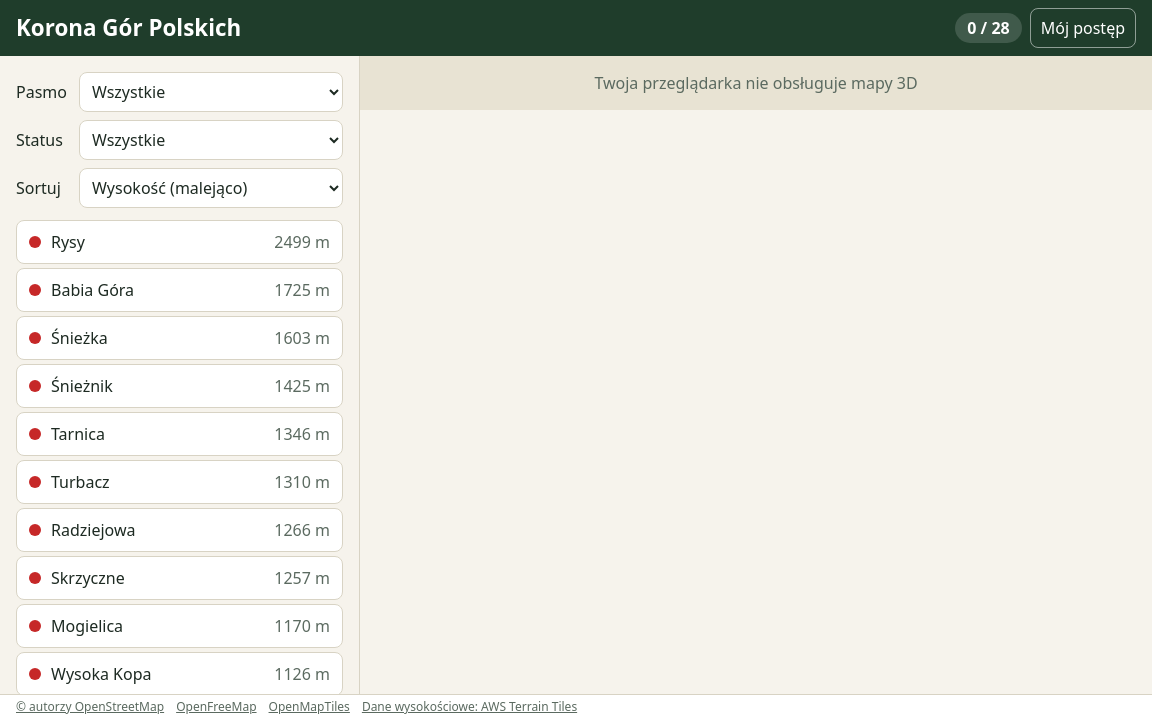
App › selecting a peak from the list opens its card with routes
What coordinates should you click on to do the following:
click the button "Babia Góra 1725 m"
I would click on:
 (93, 290)
Its box is [16,268,343,312].
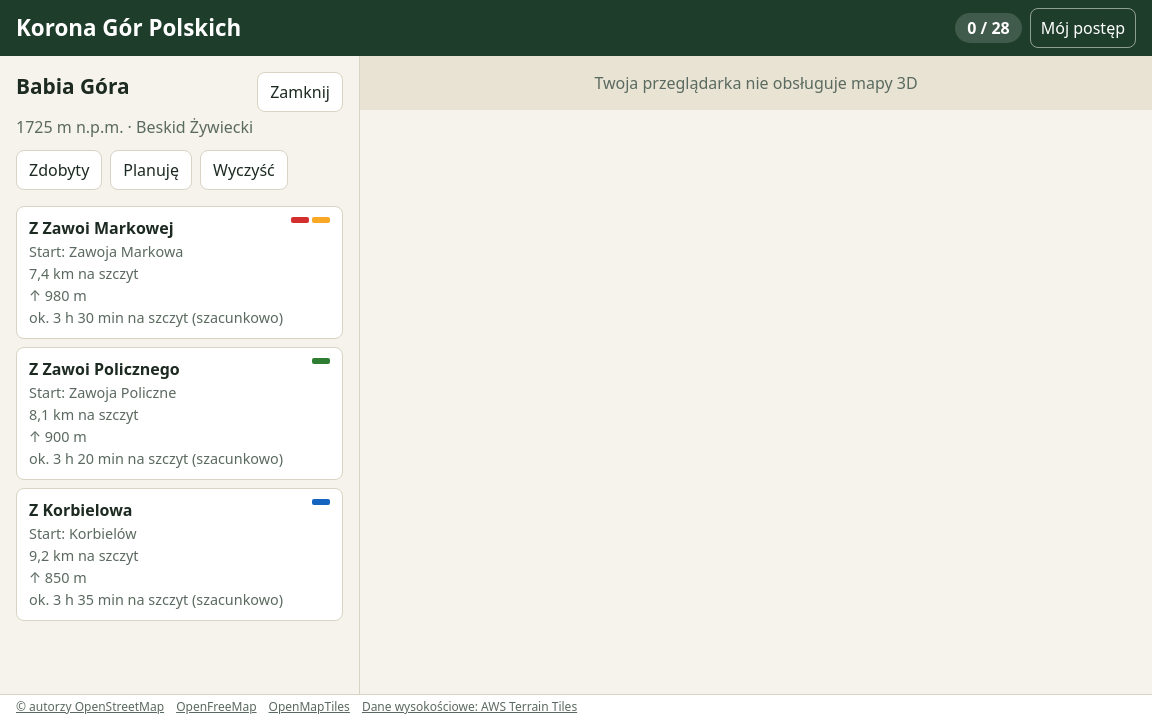
Result: the button "Z Zawoi Markowej" is shown at [16,206,343,339]
